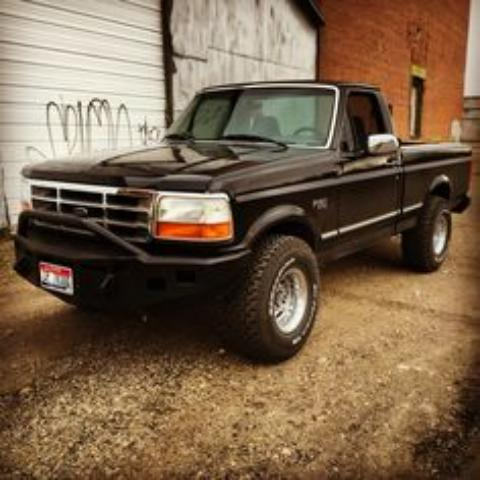pickup-truck: (12, 79, 474, 362)
